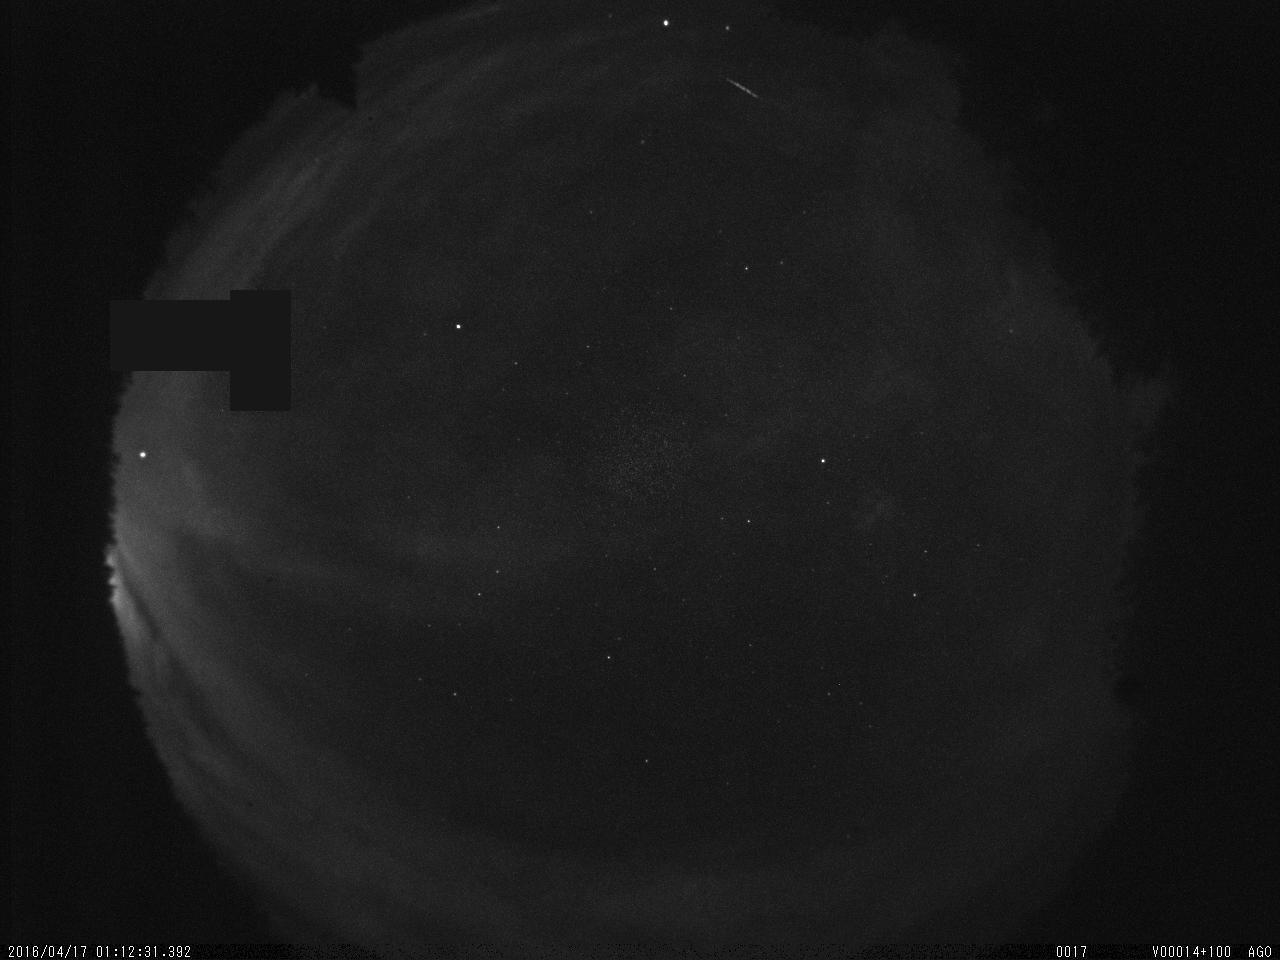meteor: (706, 59, 768, 108)
